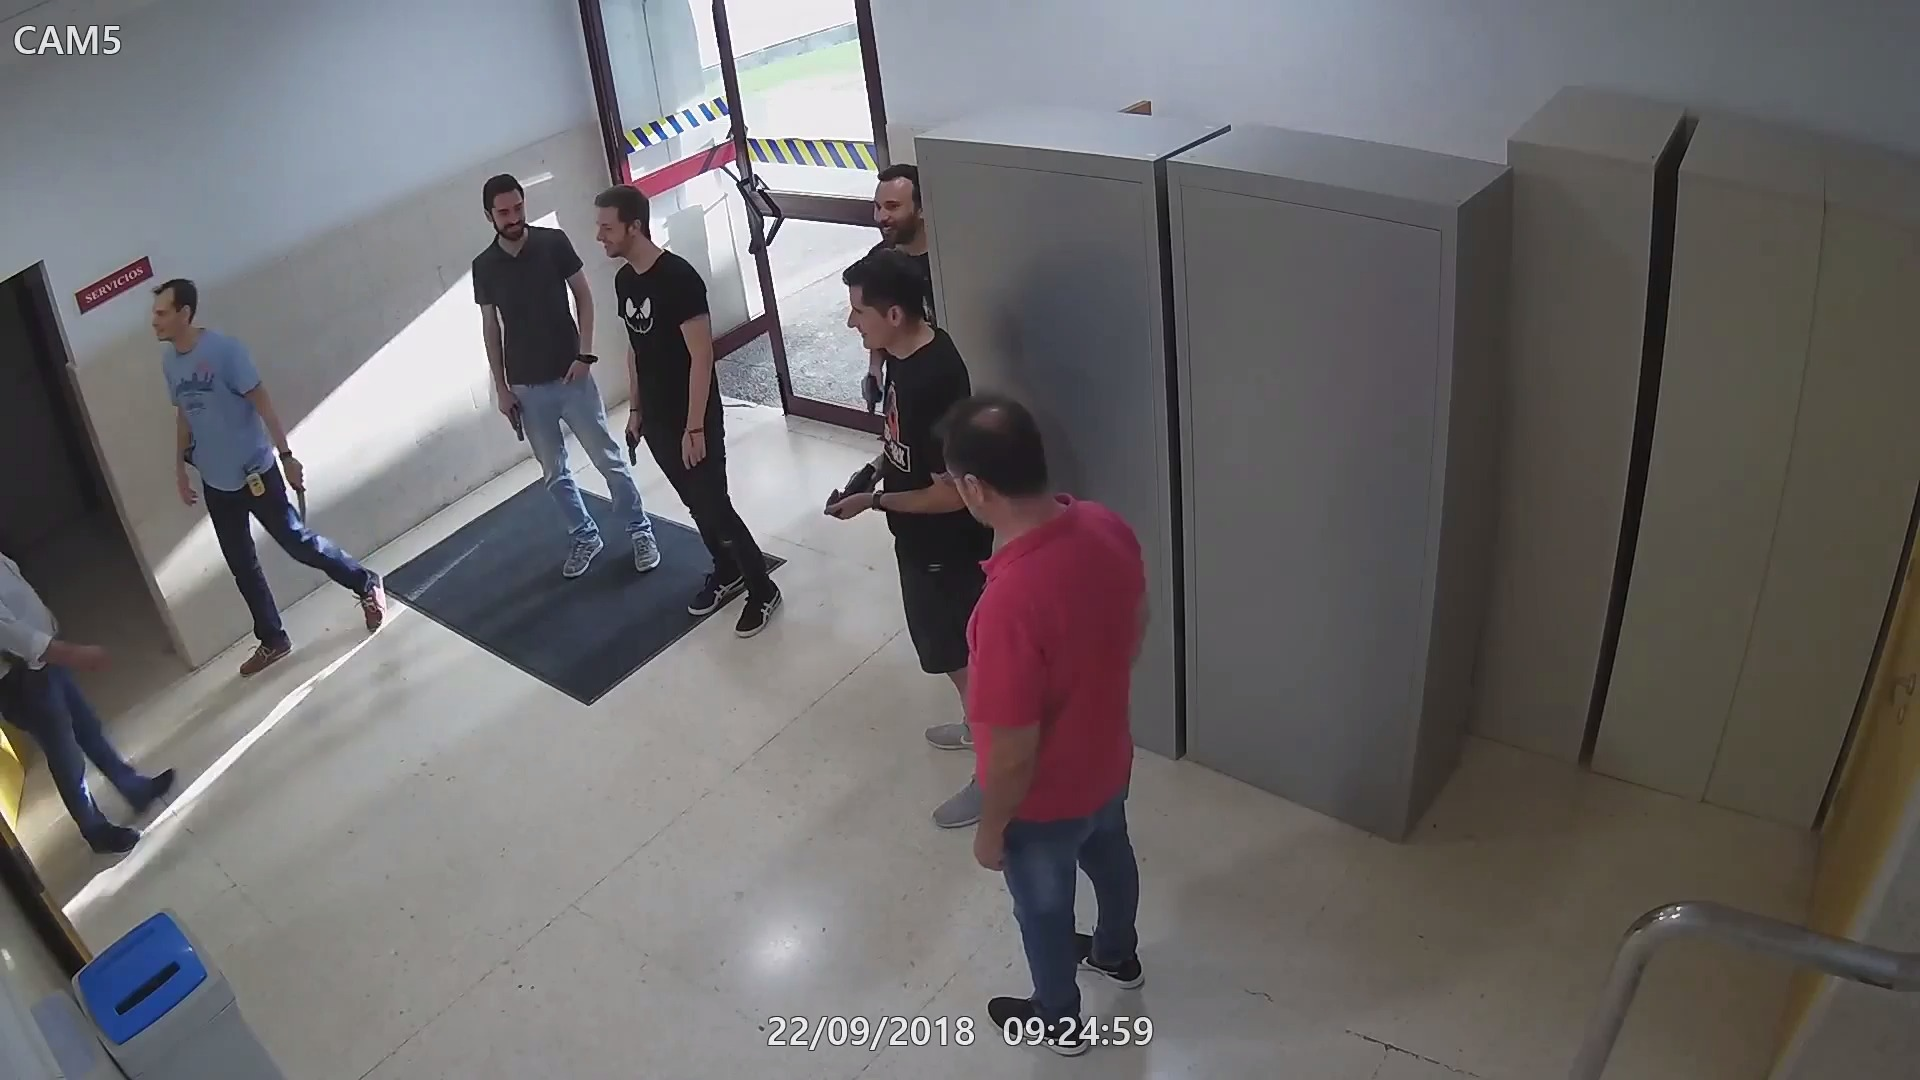Handgun: (825, 458, 880, 522), (0, 647, 36, 699), (851, 371, 887, 415), (498, 389, 530, 440), (616, 413, 644, 469), (175, 436, 202, 463)
Knife: (276, 444, 313, 526)
